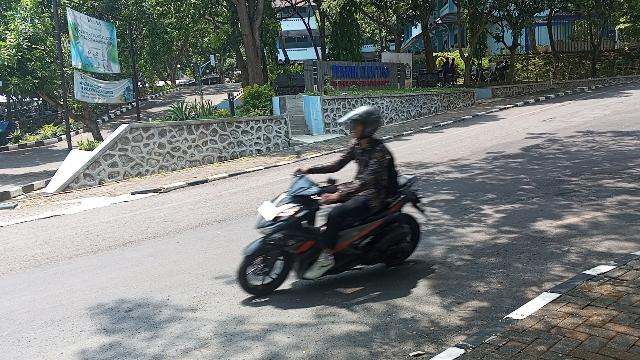helm: (336, 105, 383, 141)
motor: (238, 144, 435, 298)
